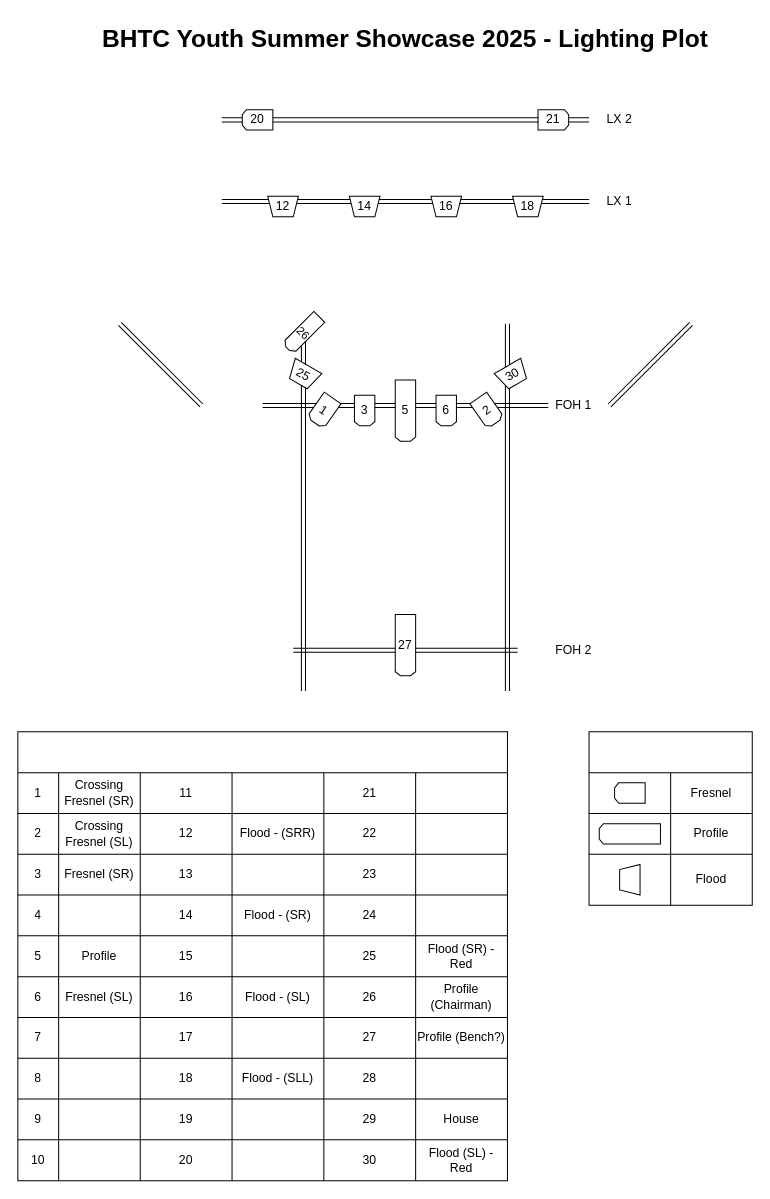
This 770x1199 diagram has some shape labels left out. The shapes that lost their labels are listed below. From the top down, each one's box as (x1, y1, x2, y2) in pixels, then its label:
(588, 731, 752, 905): Key
(17, 731, 507, 1181): Patch
